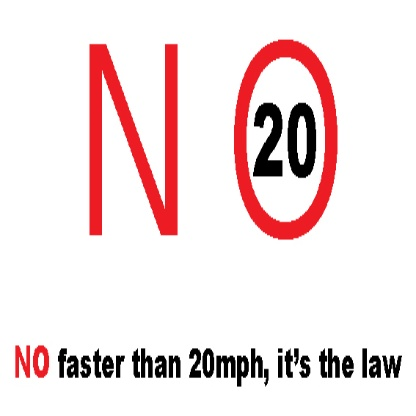limit2: (235, 33, 339, 243)
